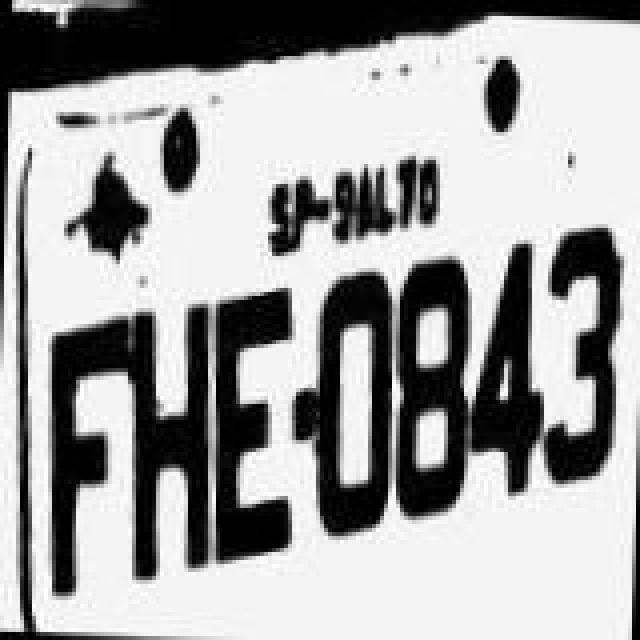3: (536, 216, 624, 488)
4: (464, 232, 548, 504)
8: (386, 244, 474, 520)
E: (200, 280, 304, 568)
F: (38, 298, 130, 598)
H: (116, 296, 220, 584)
O: (306, 258, 394, 538)
